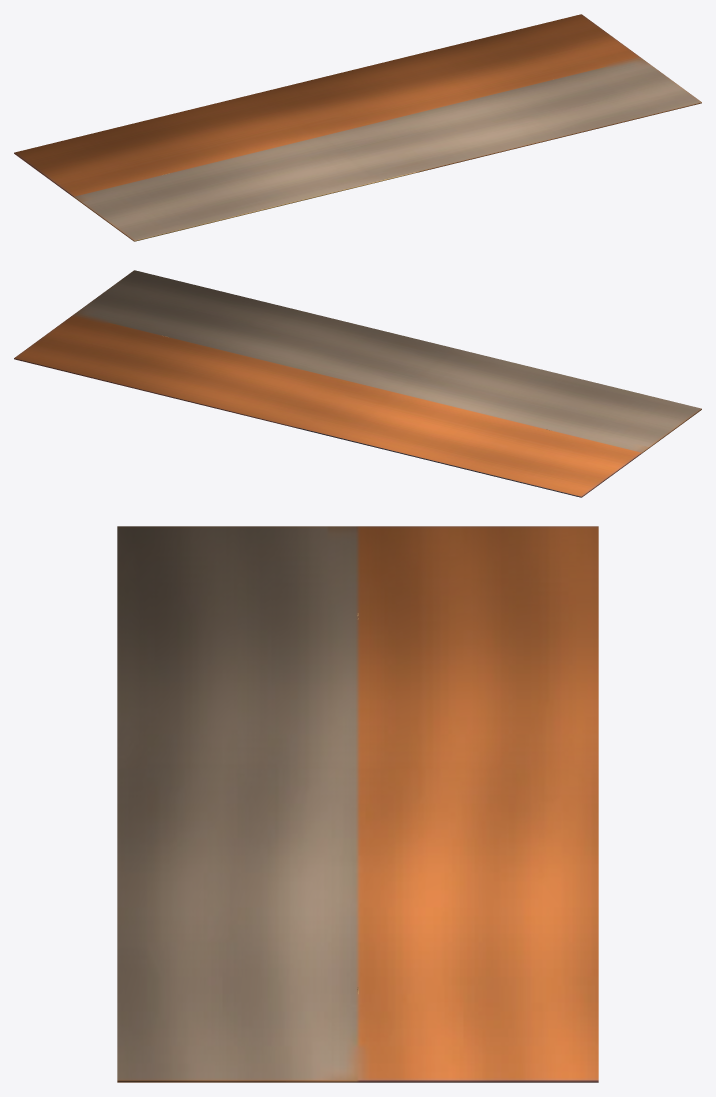
File: bones_silly.glb
3 renders of one model, top to bottom at view 1: azimuth 30°, elevation 25°; view 2: azimuth 150°, elevation 25°; view 3: azimuth 270°, elevation 25°, orthographic. The views are drawn at different scales.
Parts seen in each view (by area): view 1: col; view 2: col; view 3: col.
Part boxes in pixels (x1=…): col: x1=14, y1=14, x2=701, y2=241; col: x1=14, y1=270, x2=701, y2=497; col: x1=117, y1=526, x2=598, y2=1082.
Bounding box in the file's own units: 1.44 × 0.00264 × 0.5285.
Materials: 1 (1 with a texture image).
